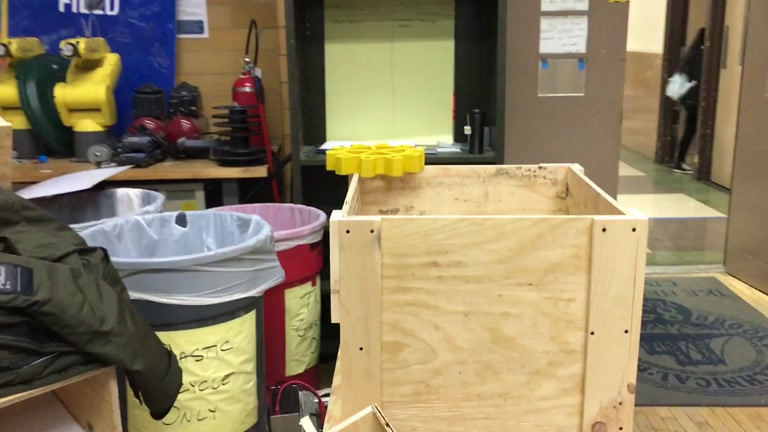gear: (324, 142, 427, 177)
